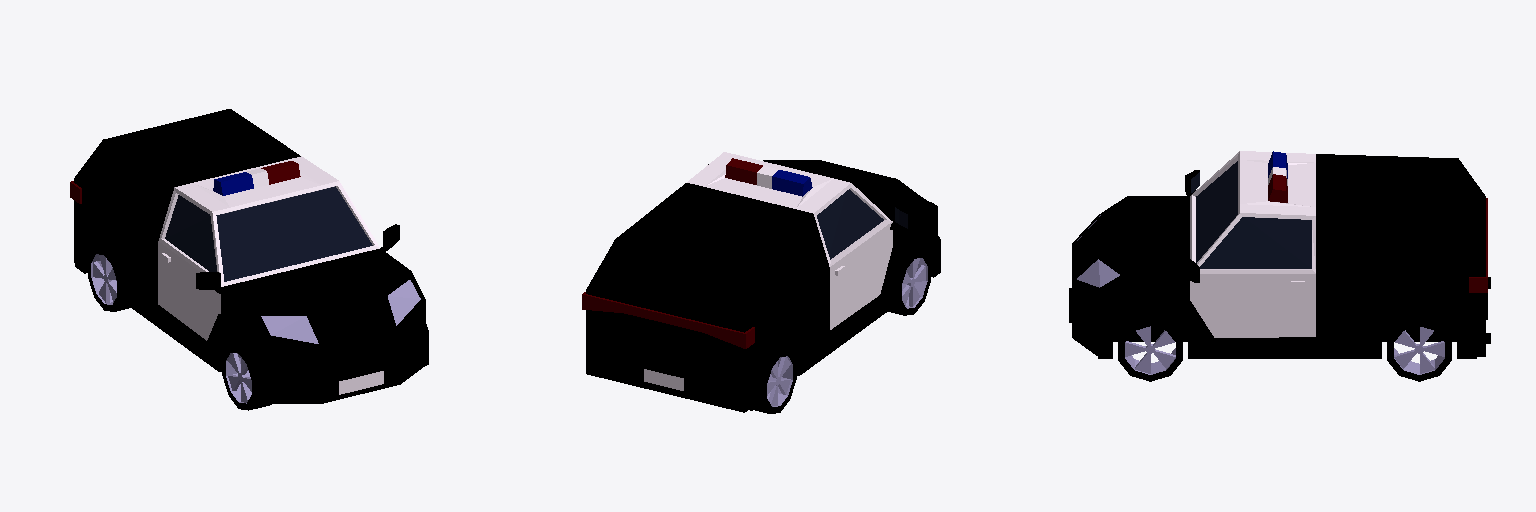
Rendered from police_suv.obj.
3 renders of one model, left to right at view 1: azimuth 30°, elevation 25°; view 2: azimuth 150°, elevation 25°; view 3: azimuth 270°, elevation 25°, orthographic.
Visible parts, largest first — view 1: Police_SUV; view 2: Police_SUV; view 3: Police_SUV.
Boxes of the visible parts, x1,y1,x2,y2 form: Police_SUV: [70, 109, 428, 410]; Police_SUV: [582, 152, 940, 413]; Police_SUV: [1069, 151, 1490, 381].
Size of the model in its own units: 2.81 by 2.26 by 5.04.